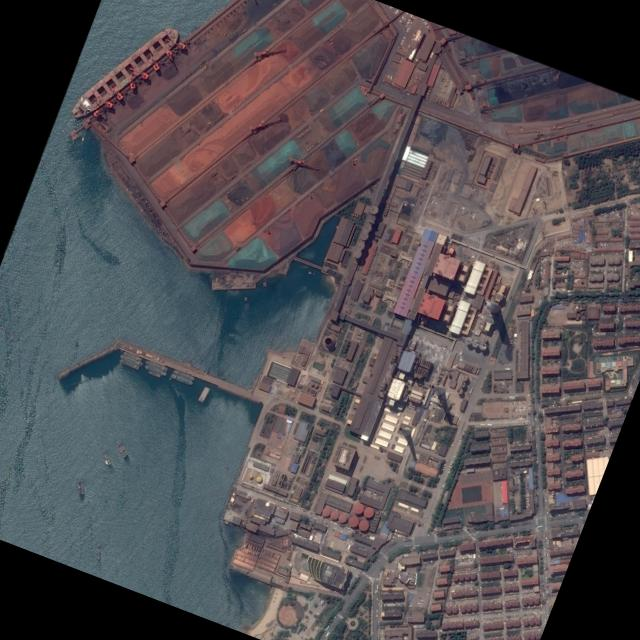large-vehicle: (333, 612, 338, 617), (556, 125, 564, 128), (536, 132, 544, 135), (325, 624, 329, 629), (325, 631, 329, 636), (586, 123, 592, 126), (503, 122, 510, 124), (479, 423, 485, 425), (504, 367, 509, 369), (486, 423, 491, 425)
ship: (68, 22, 181, 121), (119, 353, 143, 366), (143, 363, 167, 376), (169, 372, 193, 385), (144, 358, 167, 371), (172, 367, 194, 380), (114, 439, 128, 457), (118, 357, 139, 369), (122, 350, 142, 361), (197, 385, 209, 402), (101, 448, 111, 465), (147, 369, 160, 377), (77, 478, 83, 493)
storage-tank: (351, 500, 365, 514), (361, 504, 375, 518), (356, 517, 370, 531), (346, 513, 359, 528), (320, 505, 331, 517), (328, 508, 339, 520), (336, 512, 348, 523), (368, 203, 378, 215), (463, 334, 473, 345), (470, 337, 480, 347), (477, 340, 487, 350), (460, 373, 468, 381), (455, 386, 463, 394), (279, 472, 287, 480), (457, 380, 465, 387), (255, 474, 262, 482), (277, 479, 284, 486), (248, 473, 253, 478), (353, 213, 356, 216), (351, 212, 353, 215), (356, 214, 358, 216)
